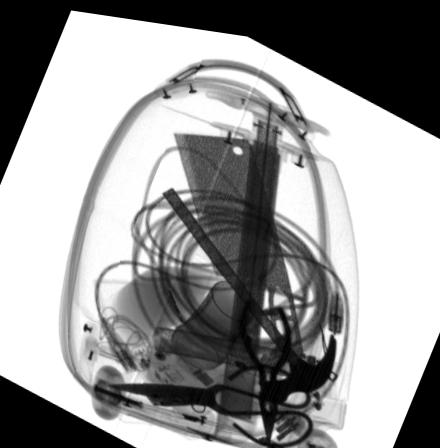Hammer: (161, 181, 336, 394)
Knife: (173, 126, 304, 353)
Pliers: (238, 288, 293, 437)
Scissors: (107, 353, 312, 439)
